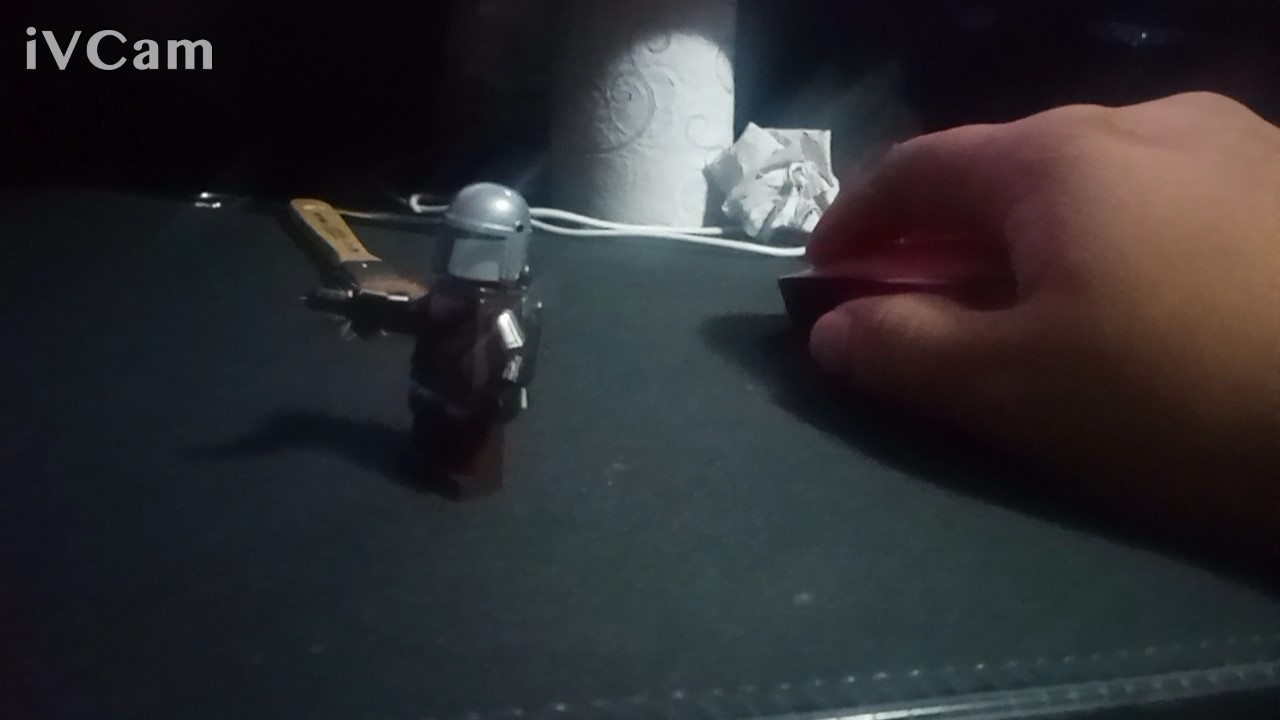mandalorian: (303, 165, 606, 511)
